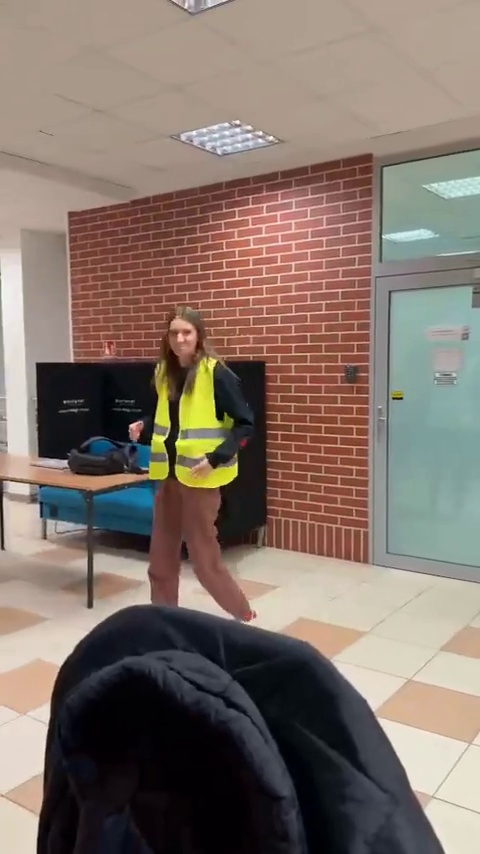vest: (123, 309, 257, 614)
